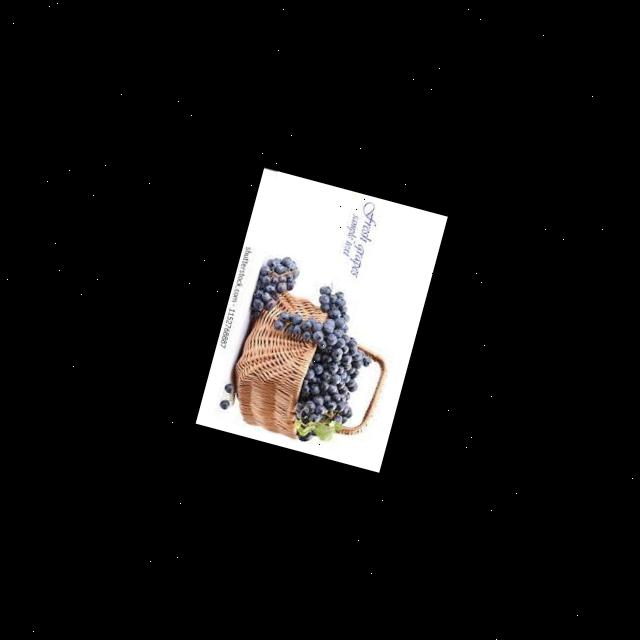grape: (245, 272, 388, 451), (246, 250, 303, 330)
